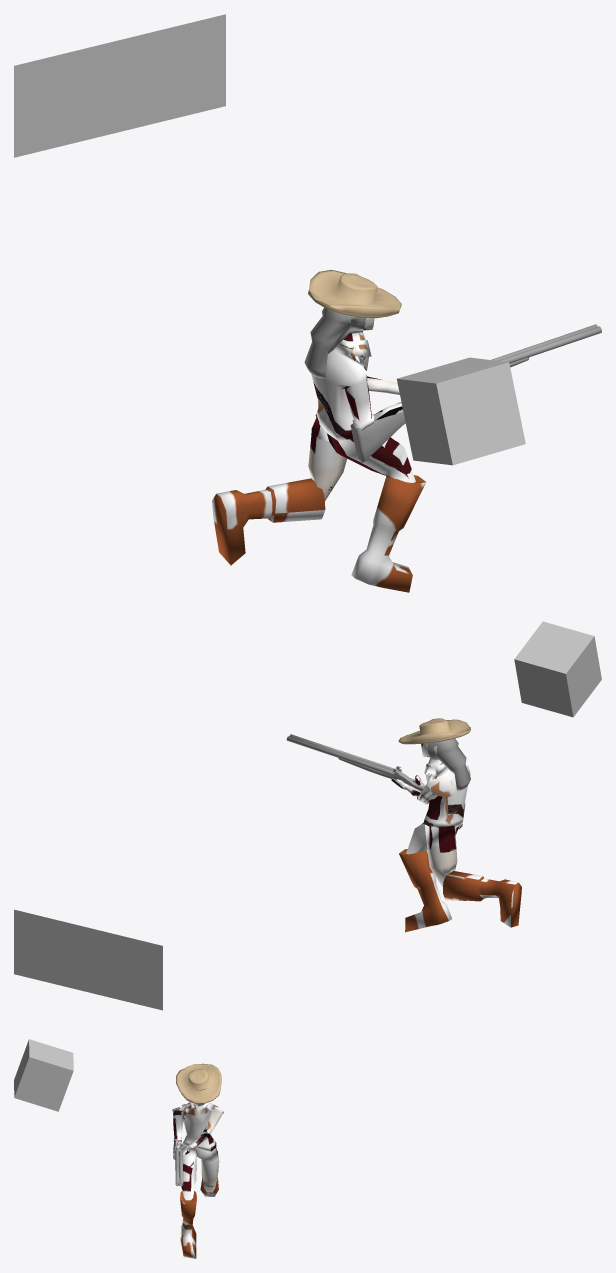
Rendered from Mariana_the_brigandBETA4.obj.
3 renders of one model, top to bottom at view 1: azimuth 30°, elevation 25°; view 2: azimuth 150°, elevation 25°; view 3: azimuth 270°, elevation 25°, orthographic. The views are drawn at different scales.
Parts seen in each view (by area): view 1: Floor_Plane, Default_Body_Cube, Cube_Cube.001, Hat_Cylinder, SHOTGUN_Cube.007, Hair_Cube.004; view 2: Floor_Plane, Default_Body_Cube, Cube_Cube.001, SHOTGUN_Cube.007, Hat_Cylinder, Hair_Cube.004; view 3: Default_Body_Cube, Cube_Cube.001, Hat_Cylinder, SHOTGUN_Cube.007.
Boxes of the visible parts, x1,y1,x2,y2 form: Floor_Plane: (14,14,225,157); Default_Body_Cube: (212,318,426,592); Cube_Cube.001: (397,357,525,465); Hat_Cylinder: (308,269,401,318); SHOTGUN_Cube.007: (350,324,601,462); Hair_Cube.004: (304,304,369,378); Floor_Plane: (14,909,162,1010); Default_Body_Cube: (391,743,521,932); Cube_Cube.001: (514,621,601,717); SHOTGUN_Cube.007: (286,734,465,829); Hat_Cylinder: (398,718,470,744); Hair_Cube.004: (427,738,470,790); Default_Body_Cube: (172,1102,223,1258); Cube_Cube.001: (14,1039,73,1111); Hat_Cylinder: (176,1063,221,1103); SHOTGUN_Cube.007: (173,1140,183,1186).
Size of what is drawn, in the model's own units: 9.86 by 8.94 by 25.11.
